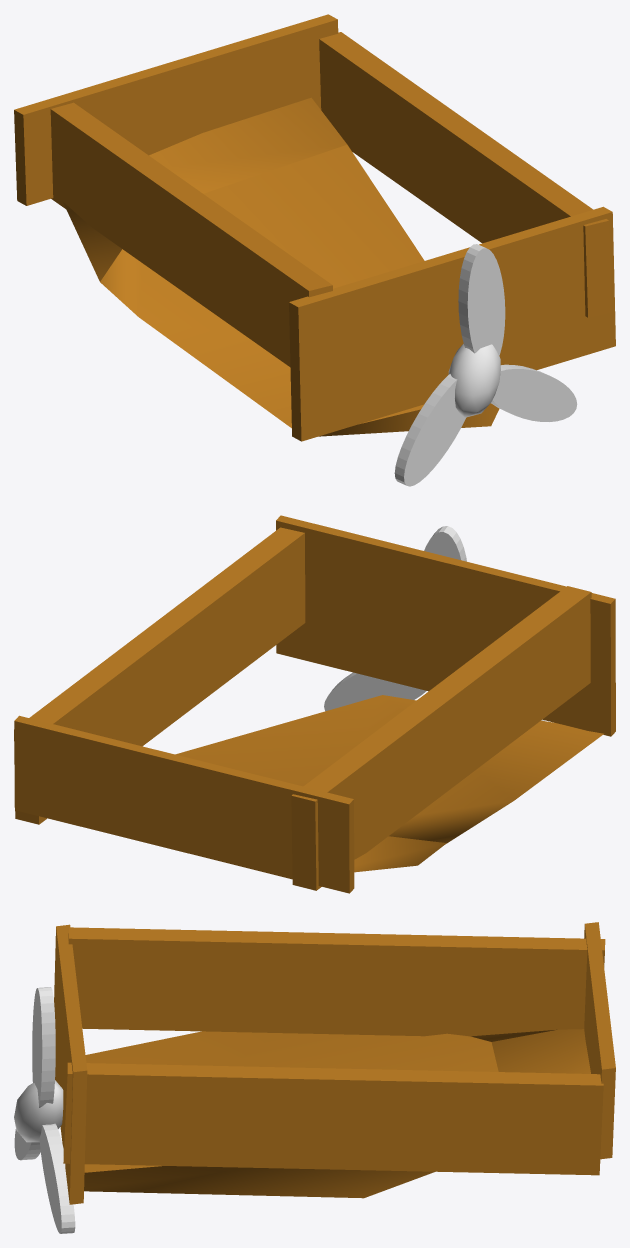
Rendered from Boat.glb.
The picture shows the model from 3 angles, top to bottom: view 1: azimuth 30°, elevation 25°; view 2: azimuth 150°, elevation 25°; view 3: azimuth 270°, elevation 25°; orthographic projection.
Visible parts, largest first — view 1: Icosphere; view 2: Icosphere; view 3: Icosphere.
Boxes of the visible parts, bbox=[...] form: Icosphere: bbox=[14, 14, 615, 486]; Icosphere: bbox=[14, 515, 615, 893]; Icosphere: bbox=[14, 922, 615, 1233].
Size of the model in its own units: 1.13 by 0.6431 by 1.69.
